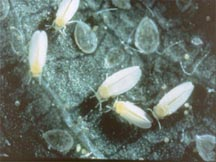whitefly: (88, 64, 142, 111), (146, 81, 195, 127), (107, 95, 152, 130), (45, 1, 82, 36), (26, 29, 49, 85)
